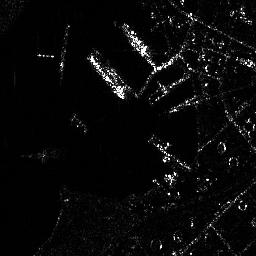ship: (88, 54, 127, 100), (122, 22, 154, 57)
